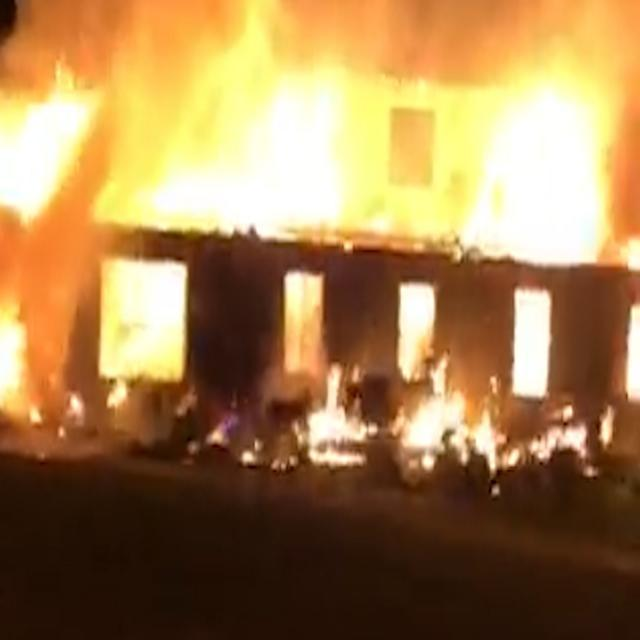Fire: (0, 1, 640, 472)
